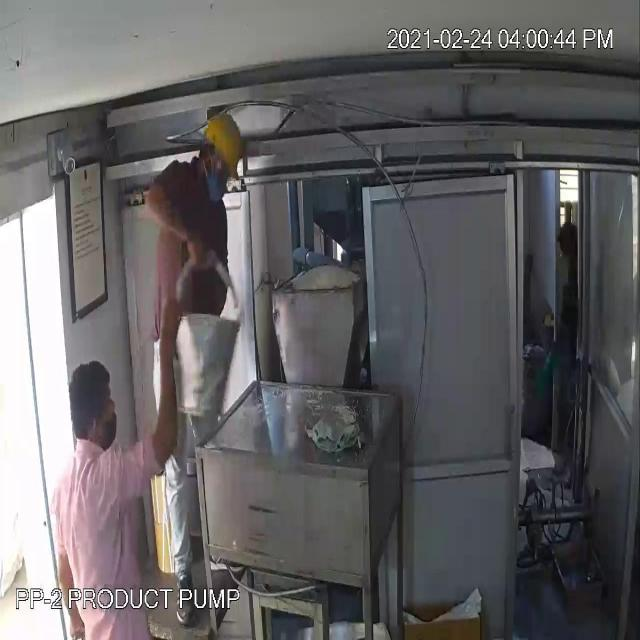helmet: (197, 98, 251, 188)
no-helmet: (58, 346, 130, 428)
